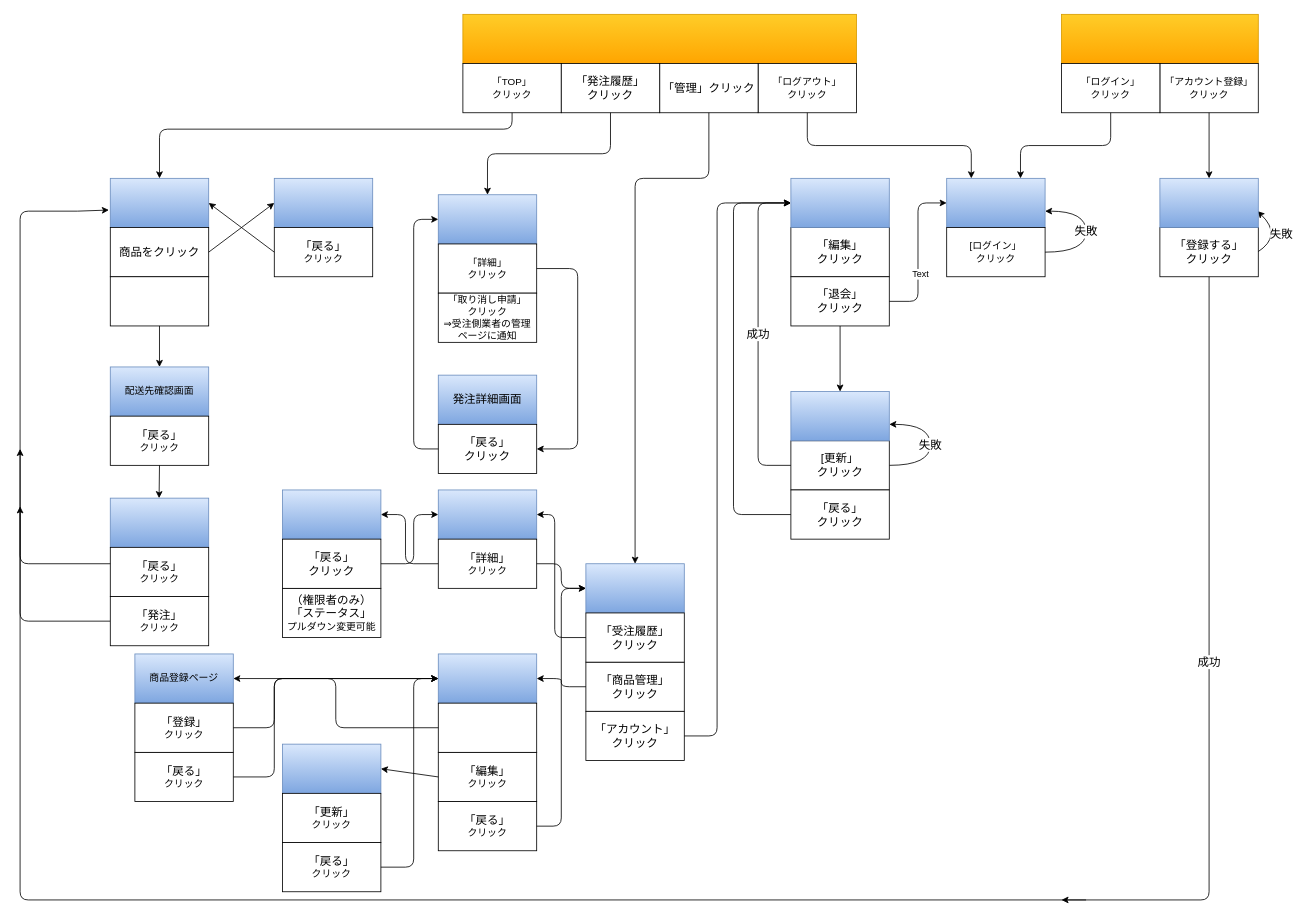
The diagram is 1307 pixels wide and 921 high, and some of its shapes have lost their labels. Here are the shapes that lost their labels. From the top down, the centre of each, then its label:
the point at 659,39: グローバルナビゲーション（ログイン中）
the point at 1159,39: グローバルナビゲーション （ログアウト中）
the point at 159,203: 発注TOP画面
the point at 323,203: 商品詳細ページ
the point at 487,219: 発注履歴一覧画面
the point at 839,203: アカウント 詳細画面
the point at 995,203: ログイン画面
the point at 1208,203: アカウント 登録画面
the point at 159,301: 「発注に進む」 クリック
the point at 839,416: アカウント 編集画面
the point at 159,522: 発注確認画面
the point at 331,514: 受注詳細画面
the point at 487,514: 受注履歴ページ
the point at 634,588: 管理選択画面
the point at 487,678: 商品管理ページ
the point at 487,727: 「新規登録」 クリック
the point at 331,768: 商品編集ページ
